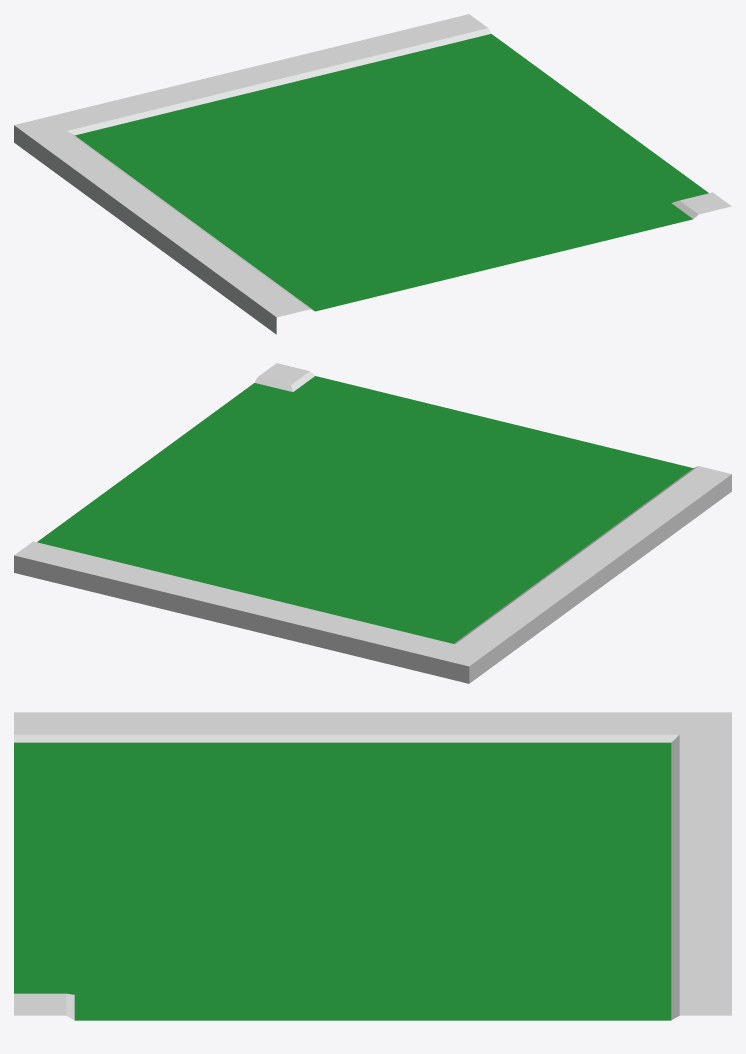
File: GrassBed_1_A_9.glb
3 views of the same model, one above another, from view 1: azimuth 30°, elevation 25°; view 2: azimuth 150°, elevation 25°; view 3: azimuth 270°, elevation 25° (orthographic). The views are drawn at different scales.
Visible parts, largest first — view 1: GrassBed_1_A_9; view 2: GrassBed_1_A_9; view 3: GrassBed_1_A_9.
Boxes of the visible parts, x1,y1,x2,y2 form: GrassBed_1_A_9: [14, 14, 731, 334]; GrassBed_1_A_9: [14, 363, 731, 683]; GrassBed_1_A_9: [14, 712, 731, 1020].
Bounding box in the file's own units: 2 × 0.0732 × 2.
1 material, 1 textured.
